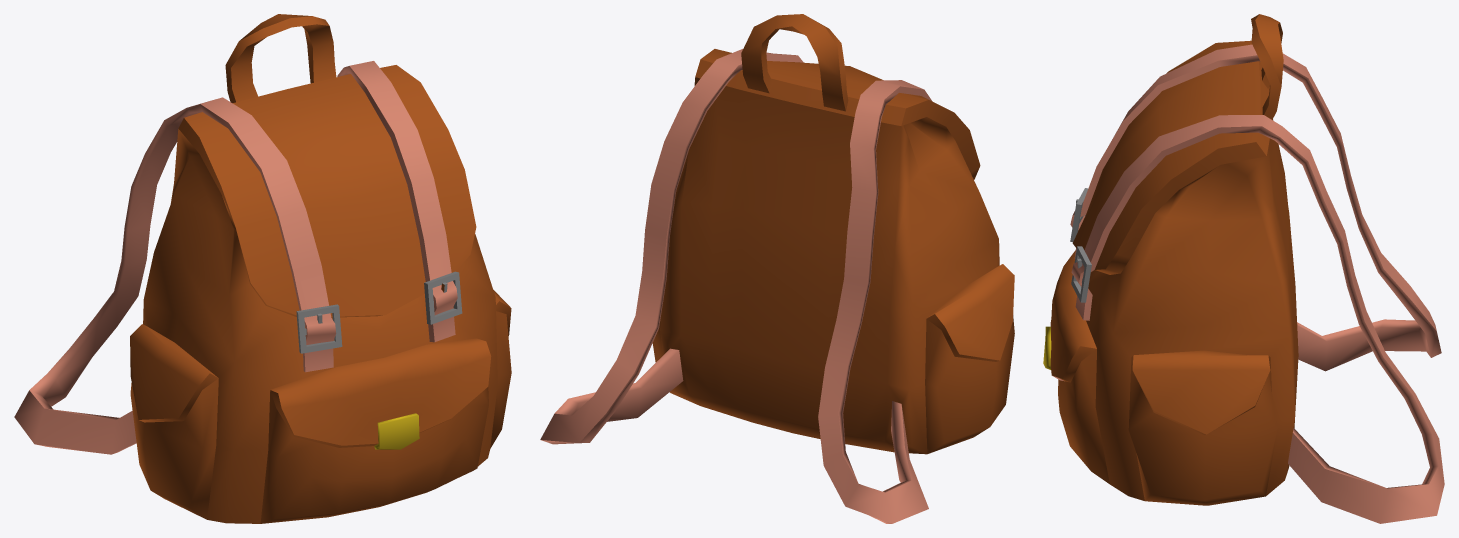
Rendered from Backpack.fbx.
3 views of the same model, side by side, from view 1: azimuth 30°, elevation 25°; view 2: azimuth 150°, elevation 25°; view 3: azimuth 270°, elevation 25° (orthographic). The views are drawn at different scales.
Visible parts, largest first — view 1: pCube6; view 2: pCube6; view 3: pCube6.
Boxes of the visible parts, box(x1,y1,x2,y2) form: pCube6: box(14, 14, 511, 523); pCube6: box(540, 14, 1014, 523); pCube6: box(1043, 14, 1444, 523).
Size of the model in its own units: 65.09 by 71.33 by 60.37.
